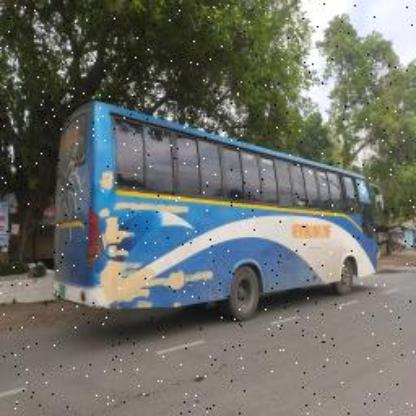bus: (52, 100, 386, 320)
